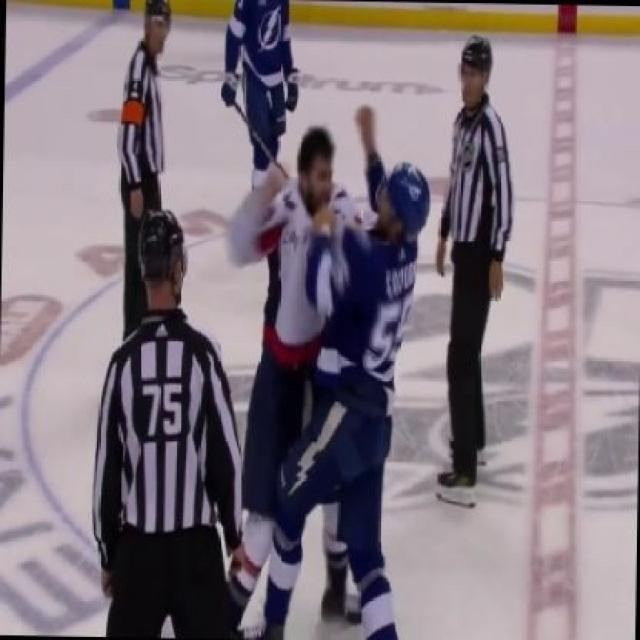fight: (228, 98, 428, 640)
non-fight: (94, 212, 239, 640), (432, 34, 514, 484), (115, 0, 170, 370), (218, 0, 302, 183)
